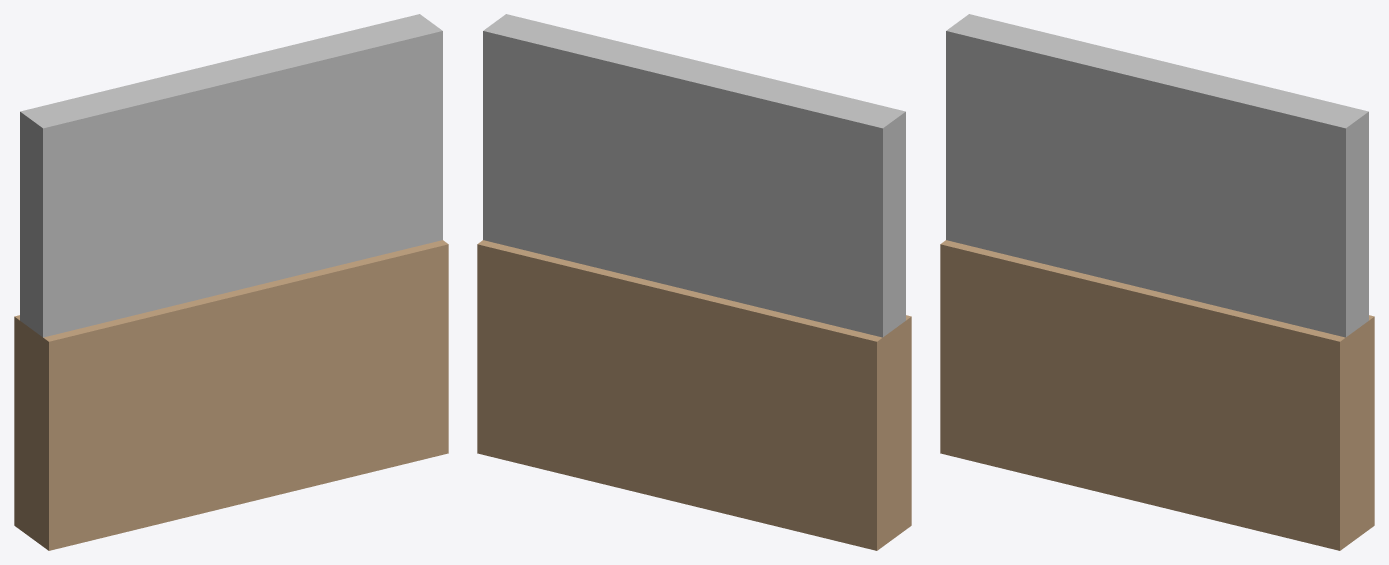
File: Kitchen-Wall-2.fbx
The picture shows the model from 3 angles, left to right: view 1: azimuth 30°, elevation 25°; view 2: azimuth 150°, elevation 25°; view 3: azimuth 330°, elevation 25°; orthographic projection.
Visible parts, largest first — view 1: Kitchen-Wall-2; view 2: Kitchen-Wall-2; view 3: Kitchen-Wall-2.
Boxes of the visible parts, <box> form: Kitchen-Wall-2: <box>14,14,448,550</box>; Kitchen-Wall-2: <box>477,14,911,550</box>; Kitchen-Wall-2: <box>940,14,1374,550</box>.
Bounding box in the file's own units: 2 × 2 × 0.3.
